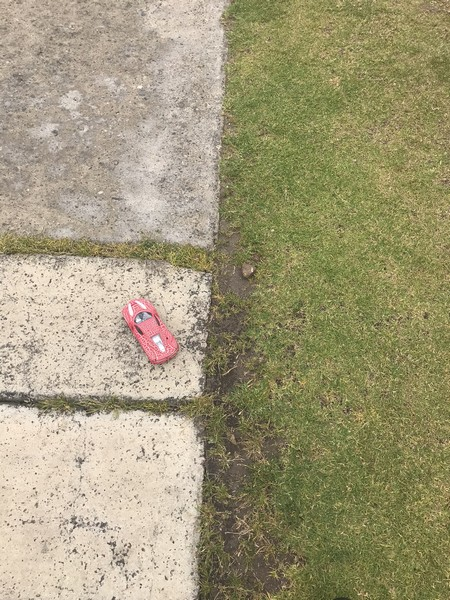RC: (120, 297, 180, 365)
